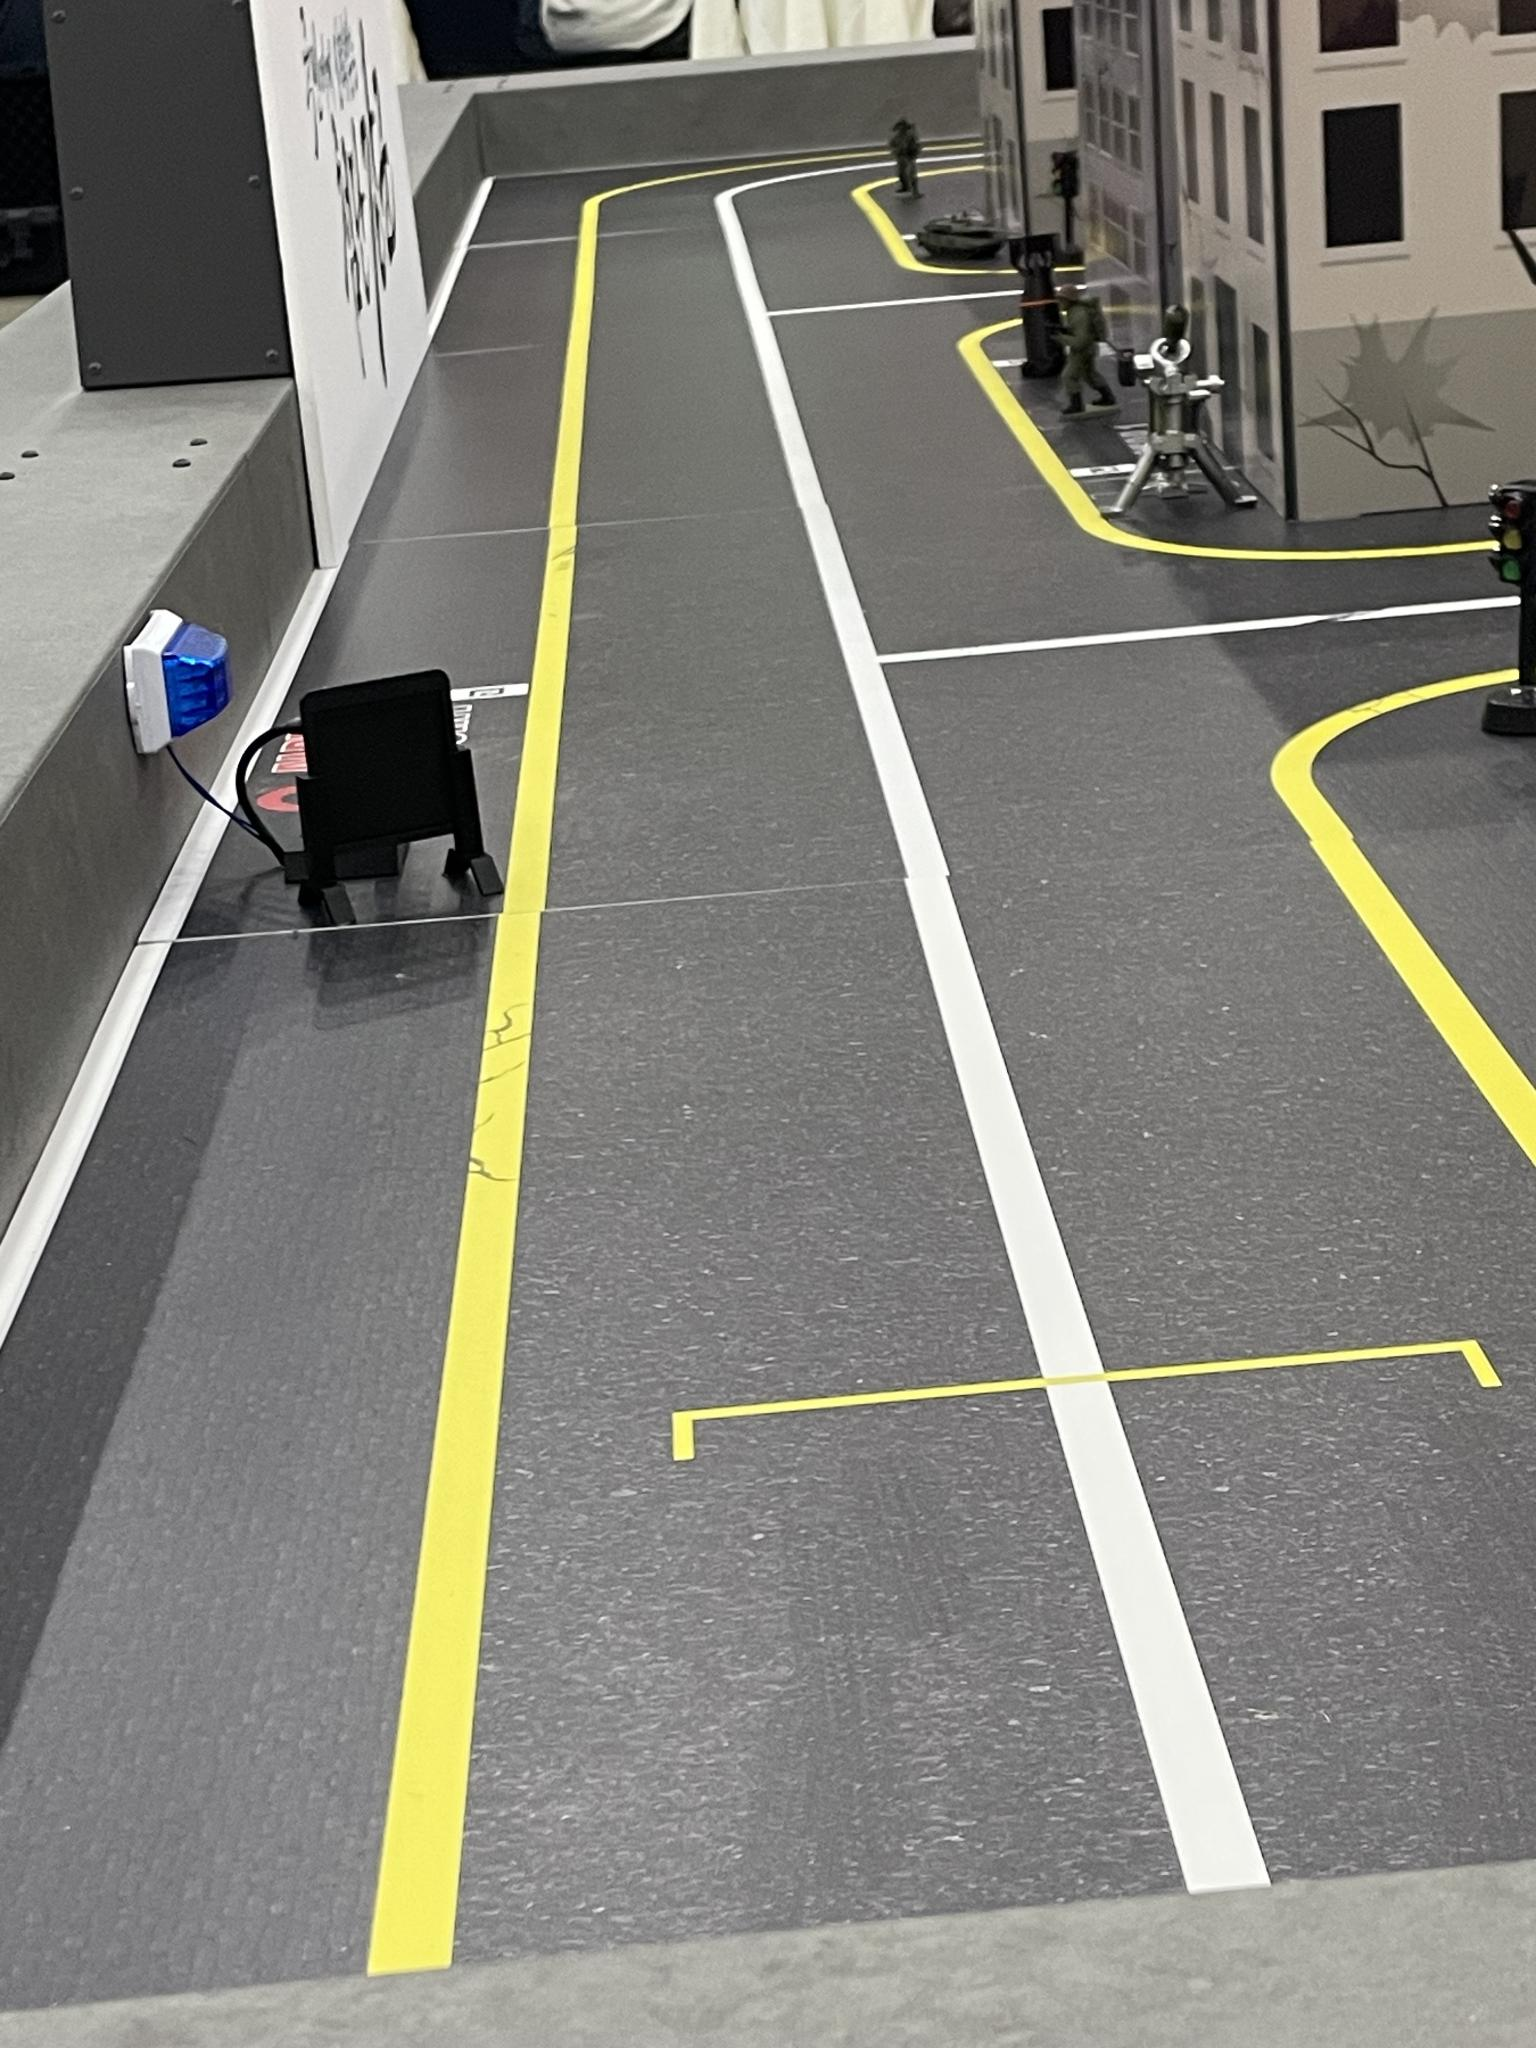Enemy: (1062, 292, 1110, 409), (889, 117, 924, 196)
Missile: (1013, 244, 1051, 353)
Mortar: (1117, 310, 1260, 516)
Tank: (919, 208, 998, 257)
